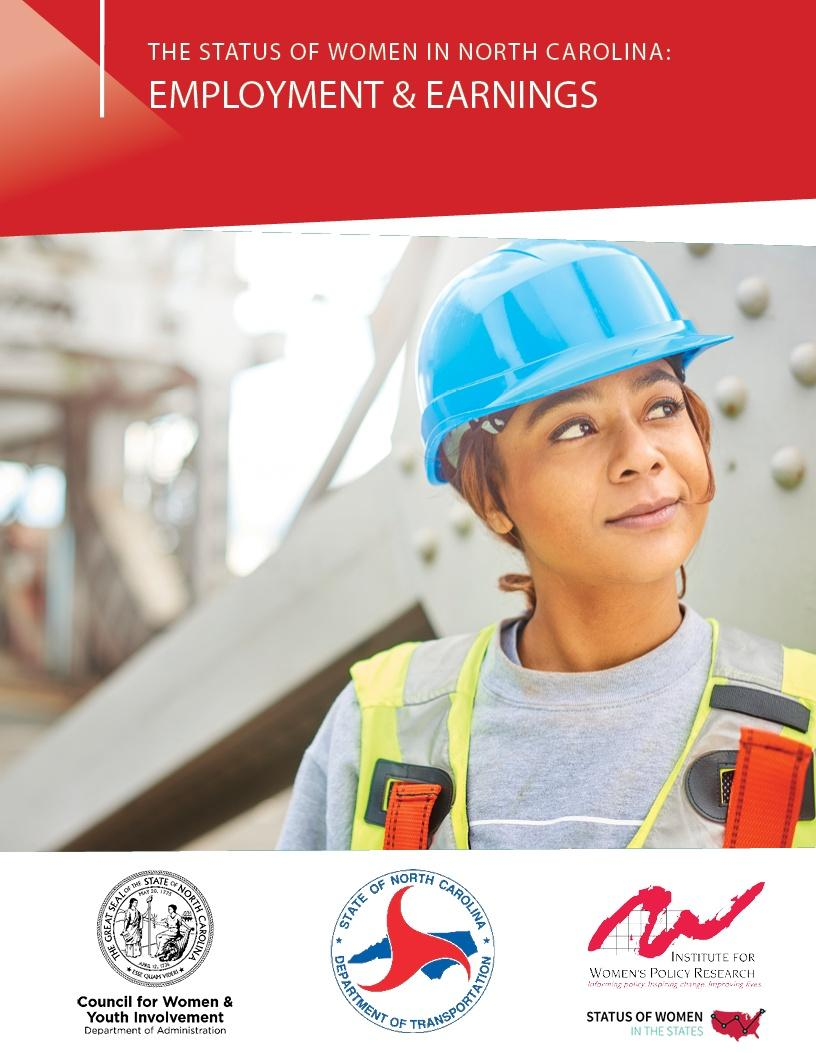helmet: (418, 240, 735, 491)
